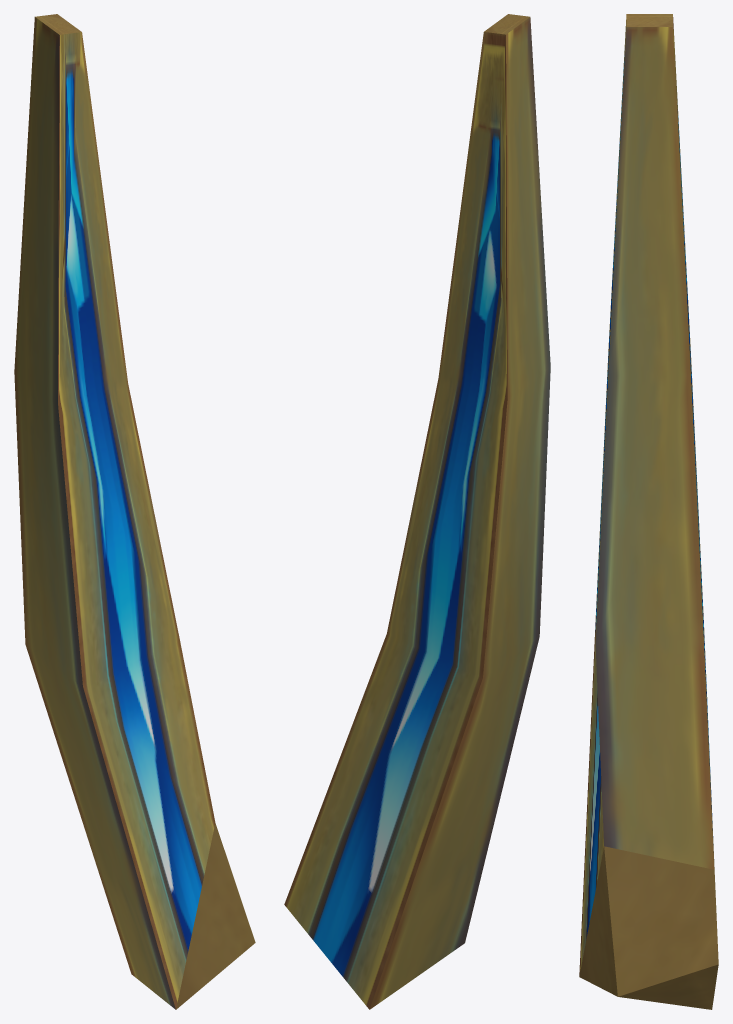
File: G_jitan0012.fbx
The picture shows the model from 3 angles, left to right: view 1: azimuth 30°, elevation 25°; view 2: azimuth 150°, elevation 25°; view 3: azimuth 270°, elevation 25°; orthographic projection. The views are drawn at different scales.
Parts seen in each view (by area): view 1: G_jitan0012; view 2: G_jitan0012; view 3: G_jitan0012.
Part boxes in pixels (<box>): G_jitan0012: <box>14,14,255,1009</box>; G_jitan0012: <box>284,14,550,1009</box>; G_jitan0012: <box>579,14,718,1009</box>.
Bounding box in the file's own units: 0.3494 × 1.58 × 0.2121.
